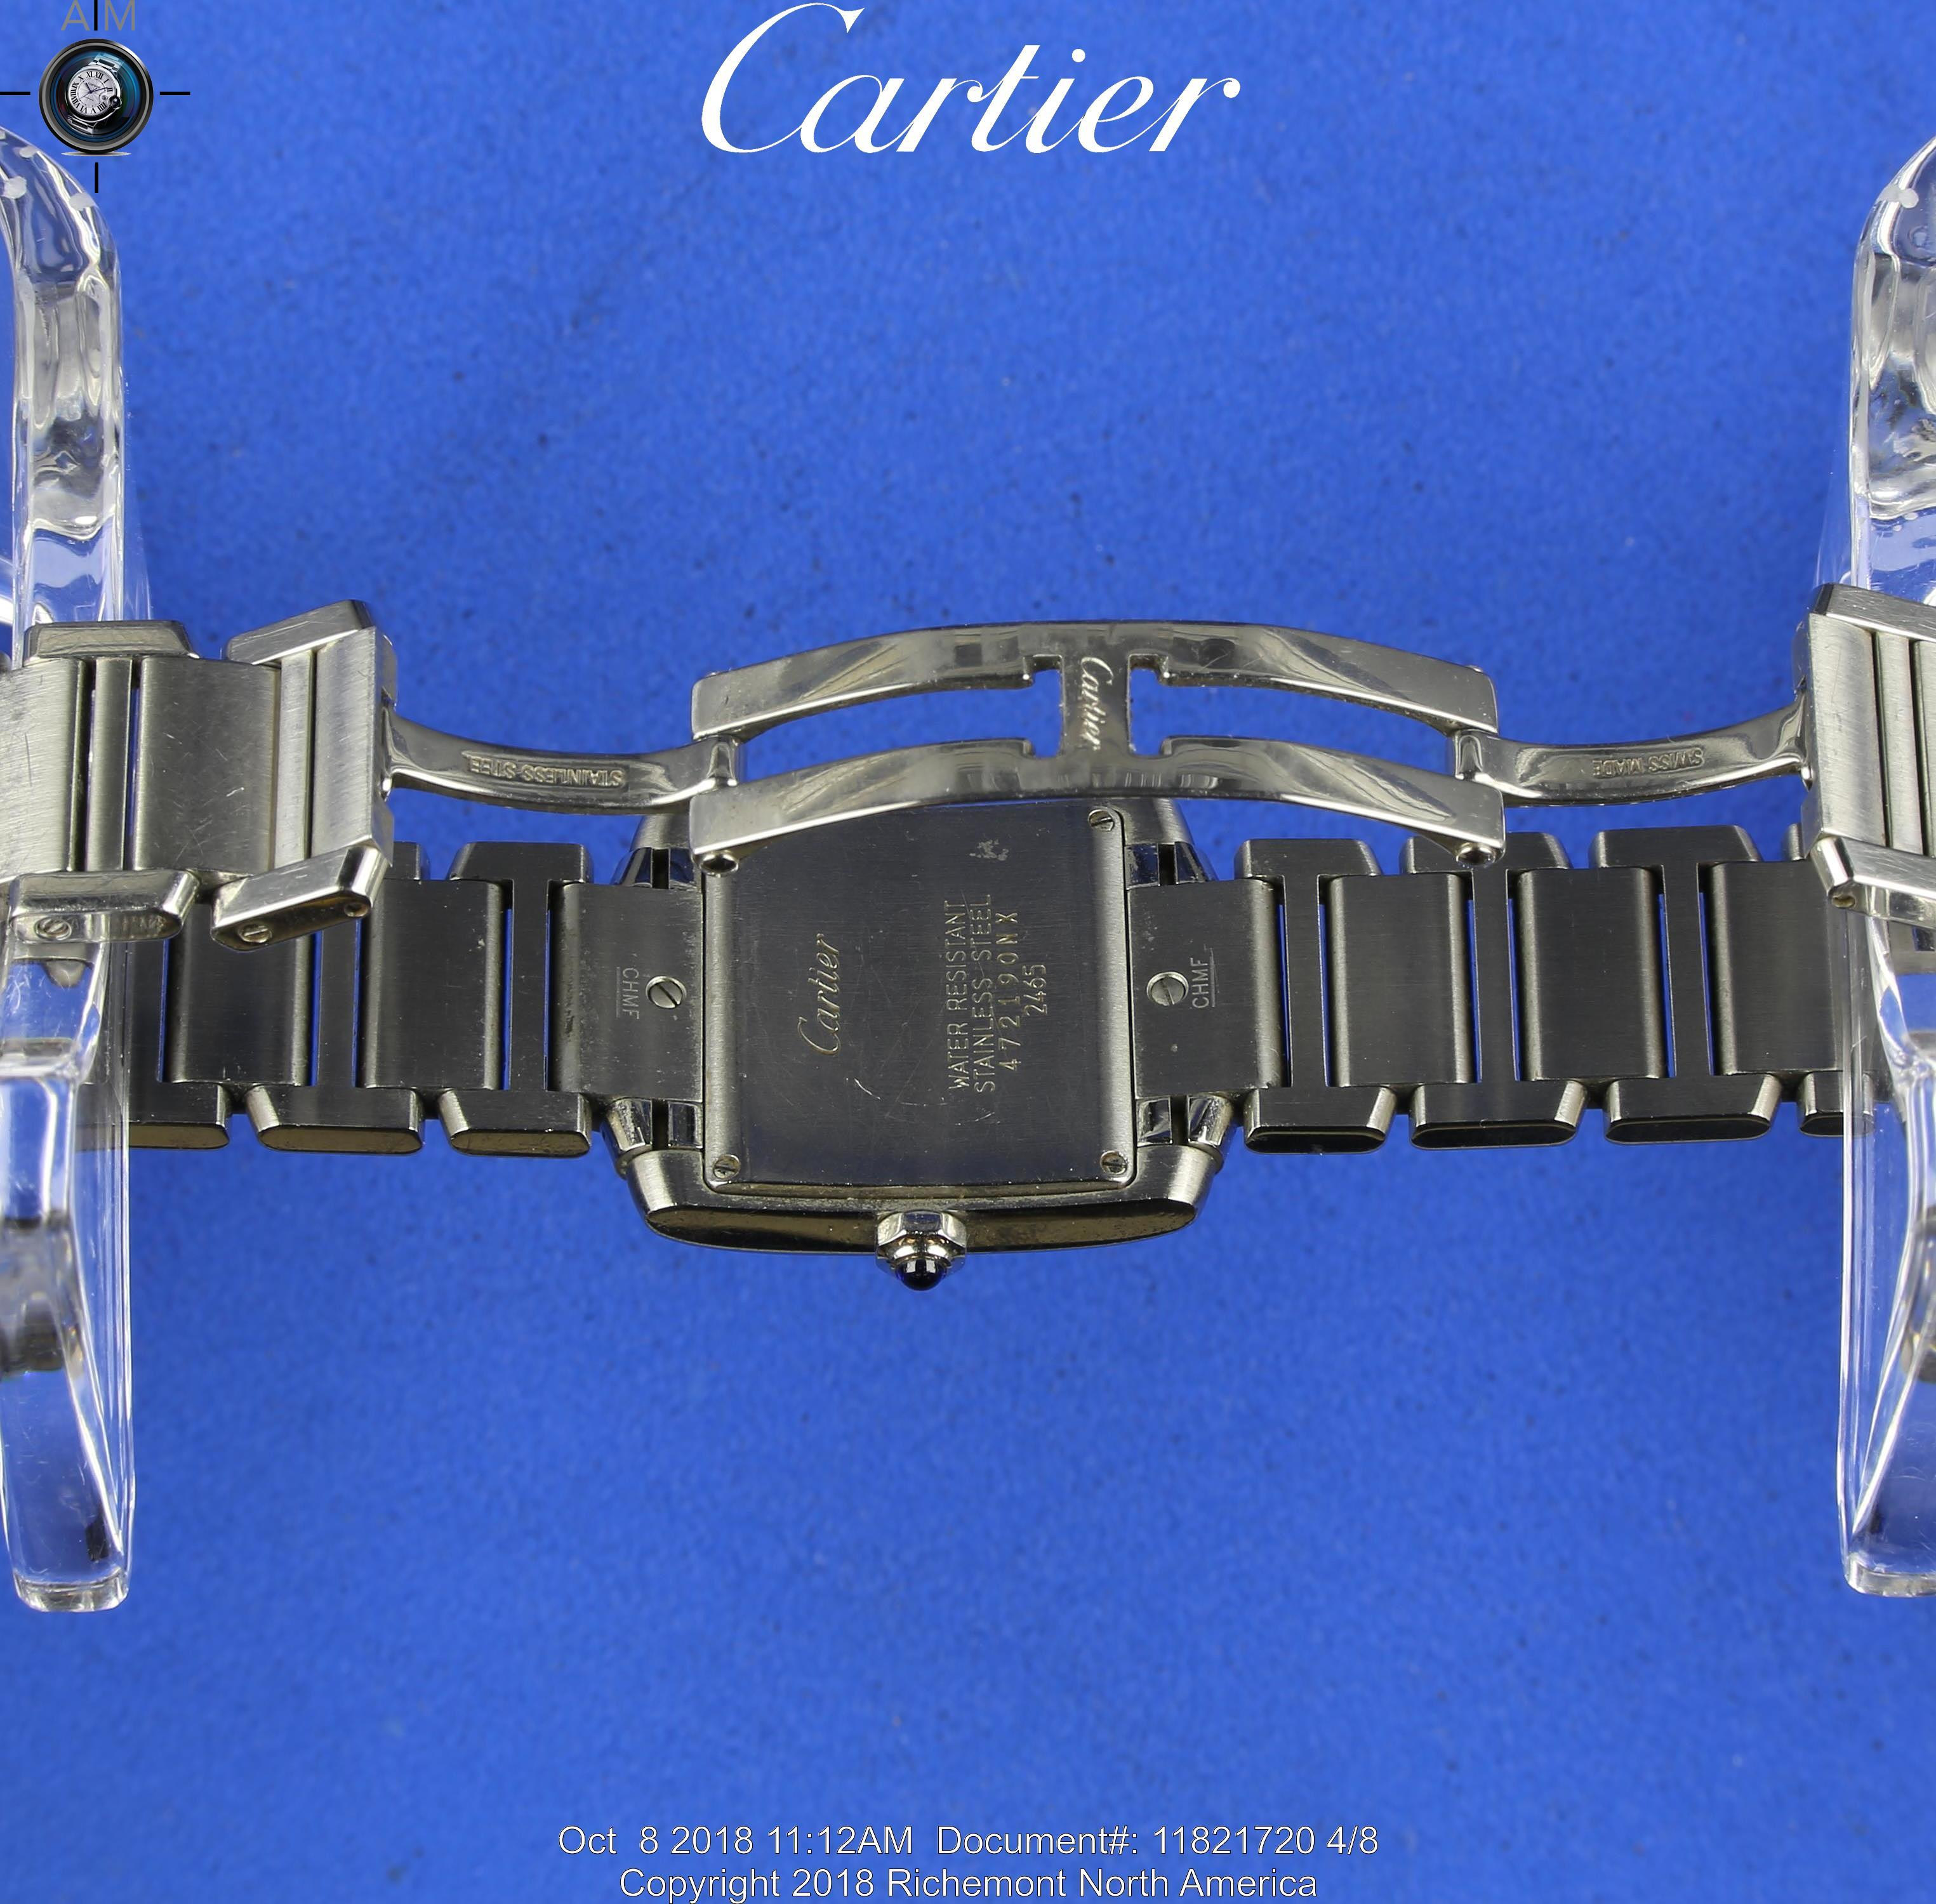watchback: (705, 816, 1134, 1208)
